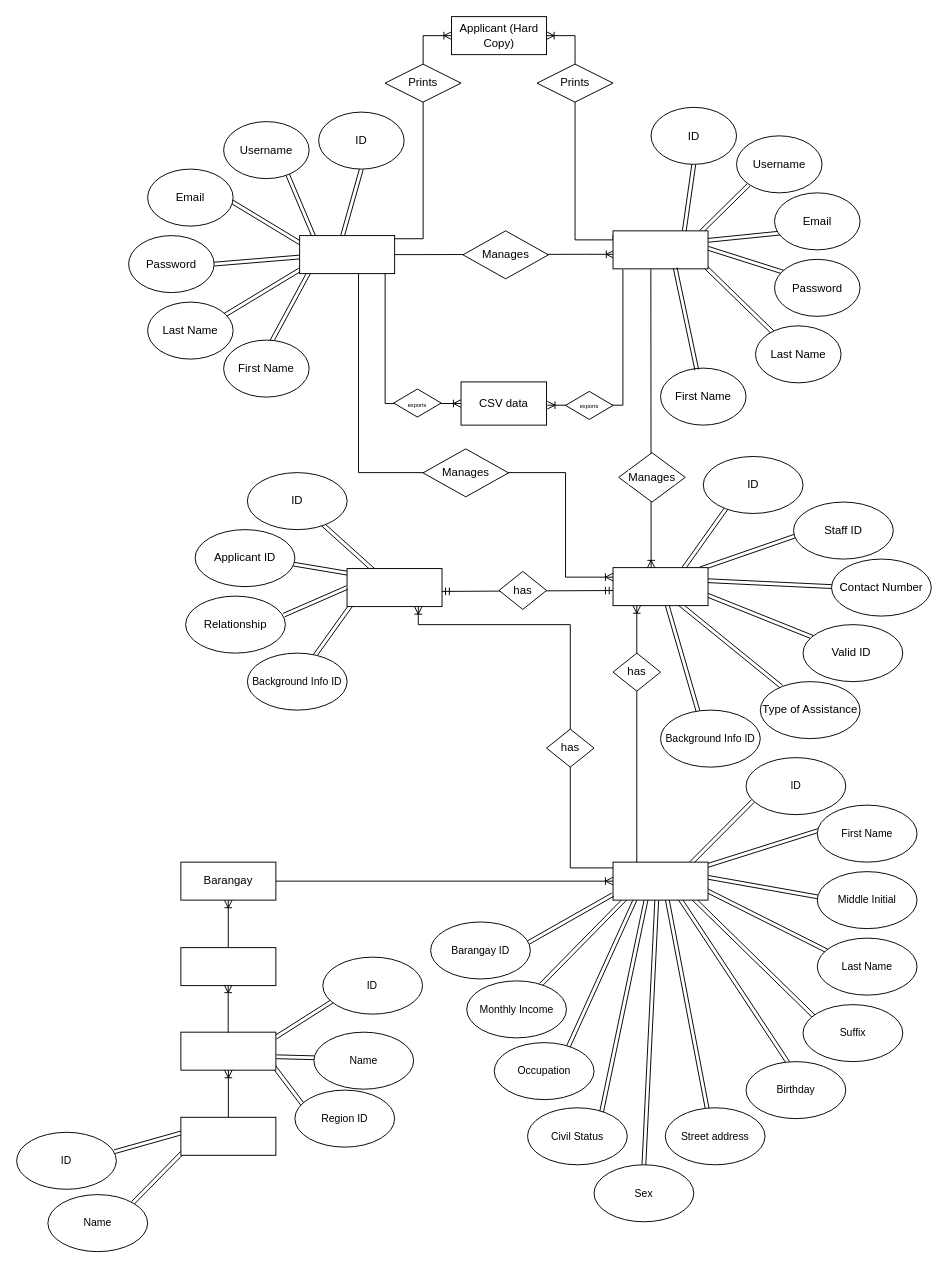
Image size: 948x1268. Some labels were removed from this diagram. Each missing label, with the centre of its shape:
"ADMIN" goes at [347,254].
"Applicant" goes at [660,586].
"Background Info" goes at [660,880].
"City" goes at [228,966].
"Province" goes at [228,1050].
"Region" goes at [228,1135].
"Representative" goes at [394,587].
"STAFF" goes at [660,249].
